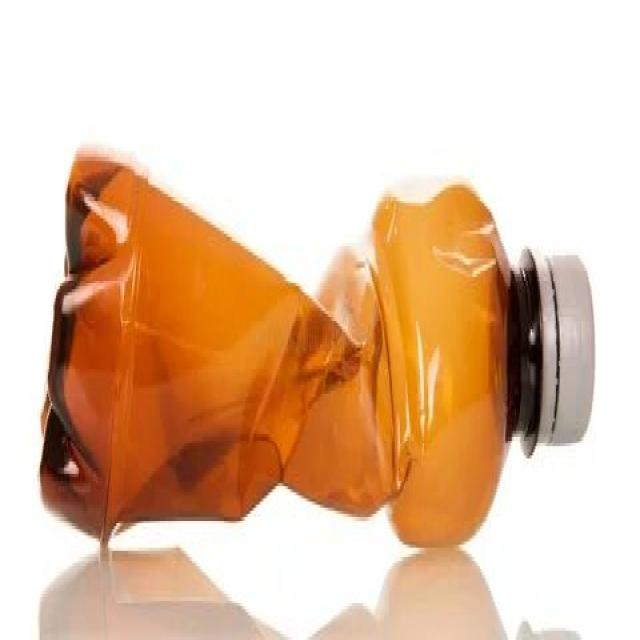brown: (38, 150, 542, 554)
